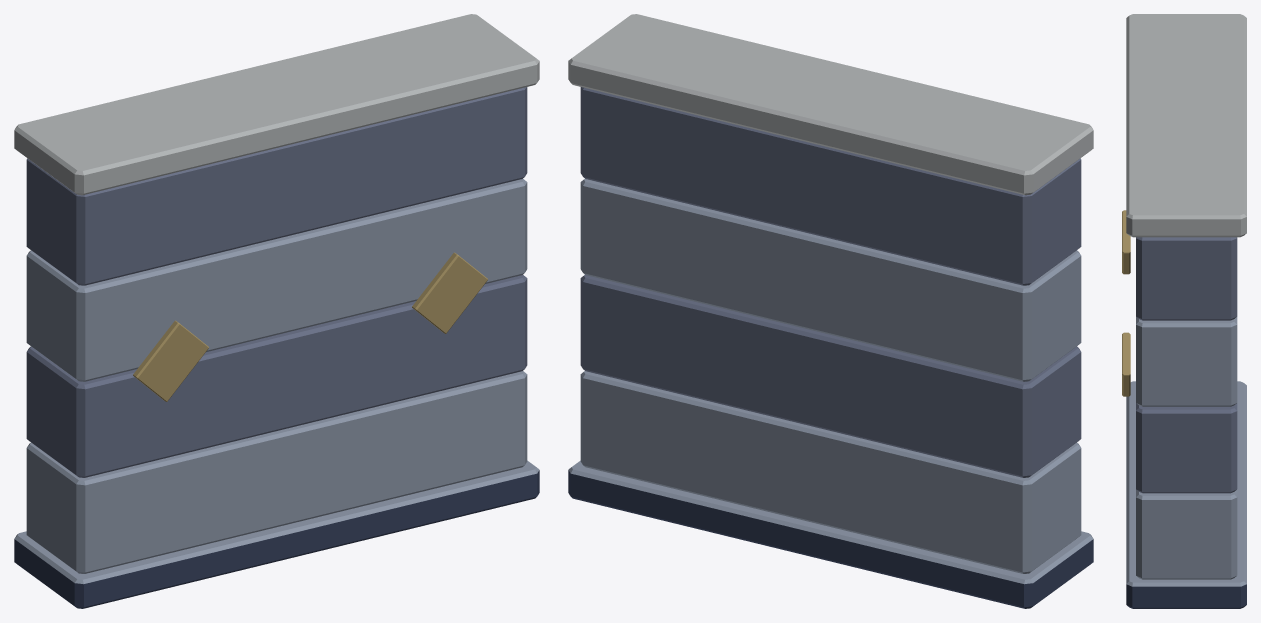
Rendered from wall-tall.glb.
3 renders of one model, left to right at view 1: azimuth 30°, elevation 25°; view 2: azimuth 150°, elevation 25°; view 3: azimuth 270°, elevation 25°, orthographic. The views are drawn at different scales.
Visible parts, largest first — view 1: wall-tall__body; view 2: wall-tall__body; view 3: wall-tall__body.
Boxes of the visible parts, bbox=[...] form: wall-tall__body: bbox=[14, 14, 539, 608]; wall-tall__body: bbox=[568, 14, 1093, 608]; wall-tall__body: bbox=[1122, 14, 1246, 608].
Bounding box in the file's own units: 2 × 1.8 × 0.5175.
